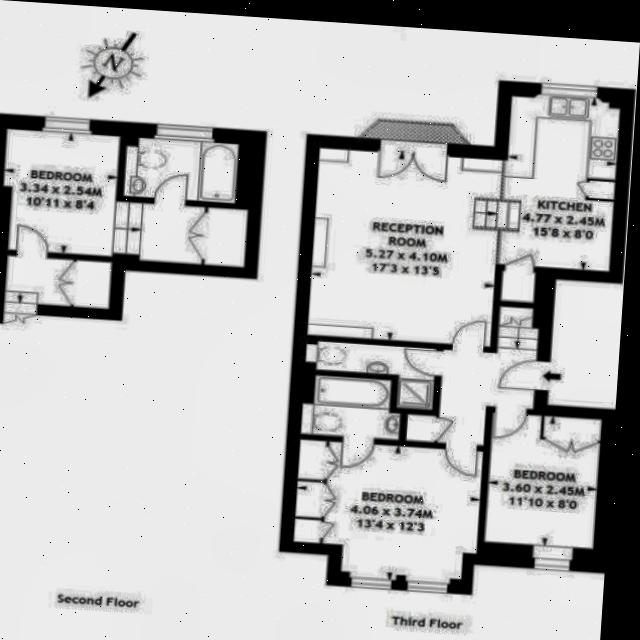room: (307, 82, 620, 356), (292, 439, 484, 586), (403, 302, 540, 449), (485, 414, 602, 549), (0, 130, 120, 256), (126, 203, 249, 266), (123, 137, 240, 203), (301, 375, 401, 440), (5, 256, 111, 308), (305, 342, 435, 378), (500, 270, 536, 303)
